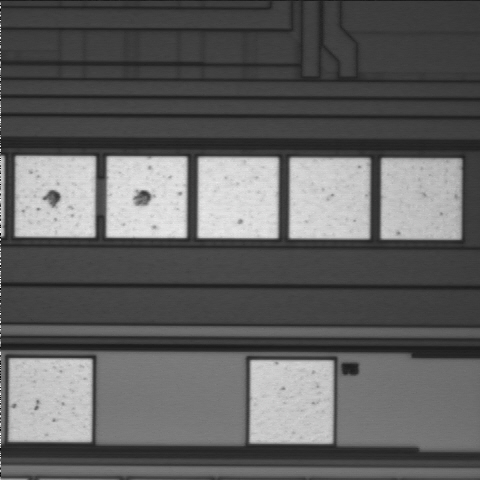pad: (9, 359, 92, 442), (250, 360, 333, 443), (15, 156, 95, 237), (107, 157, 187, 238), (198, 157, 278, 238), (290, 158, 369, 238), (381, 159, 460, 239)
